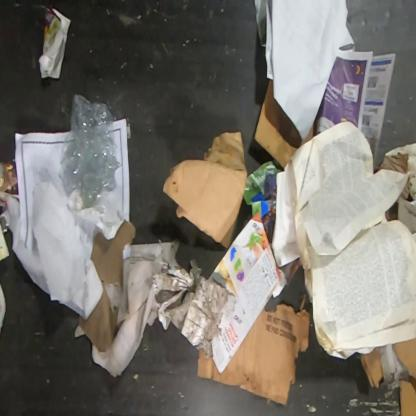cardboard: (198, 303, 310, 405), (162, 131, 248, 248), (254, 78, 313, 170), (393, 337, 415, 415), (359, 346, 384, 388)
soft_plastic: (63, 93, 121, 209)
